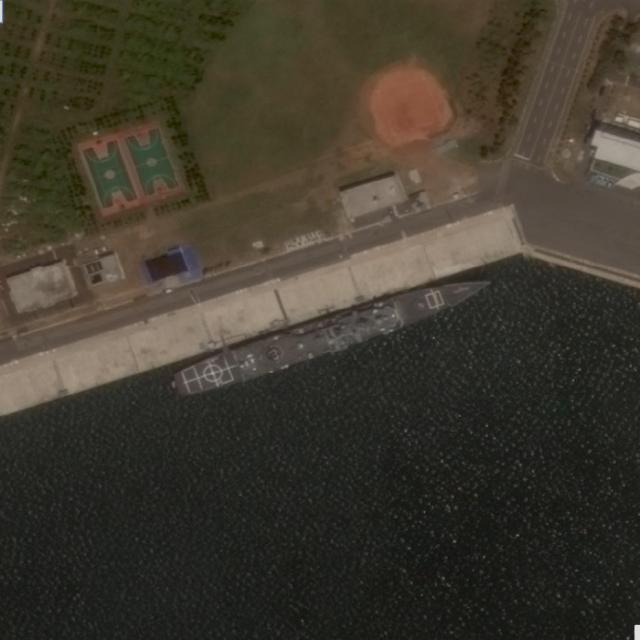Frigate: (169, 266, 494, 397)
